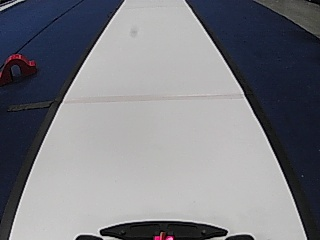bridge: (1, 53, 38, 85)
